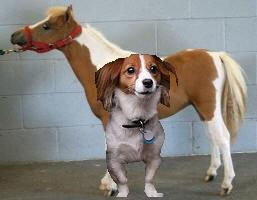tampered: (96, 55, 178, 197)
